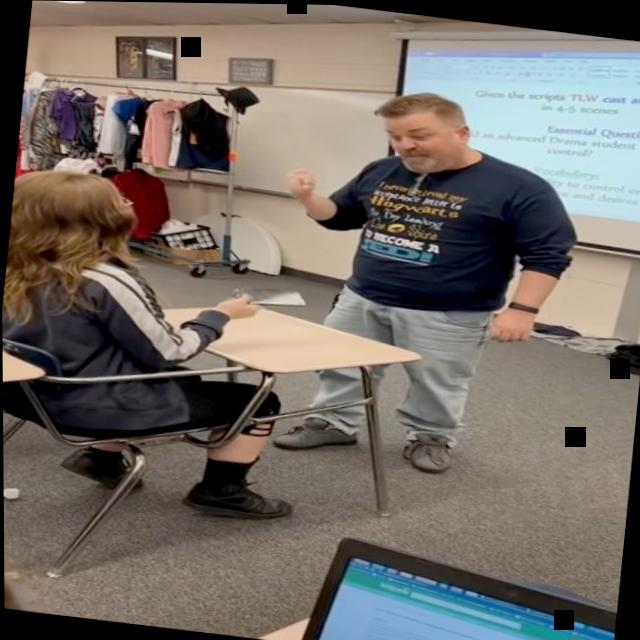NO-Mask: (375, 95, 470, 182)
